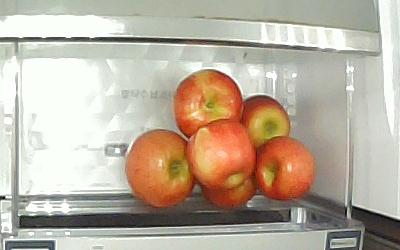apple: (125, 130, 196, 207), (185, 118, 257, 193), (174, 69, 243, 141), (254, 136, 316, 200), (241, 93, 291, 150), (200, 167, 256, 208)
